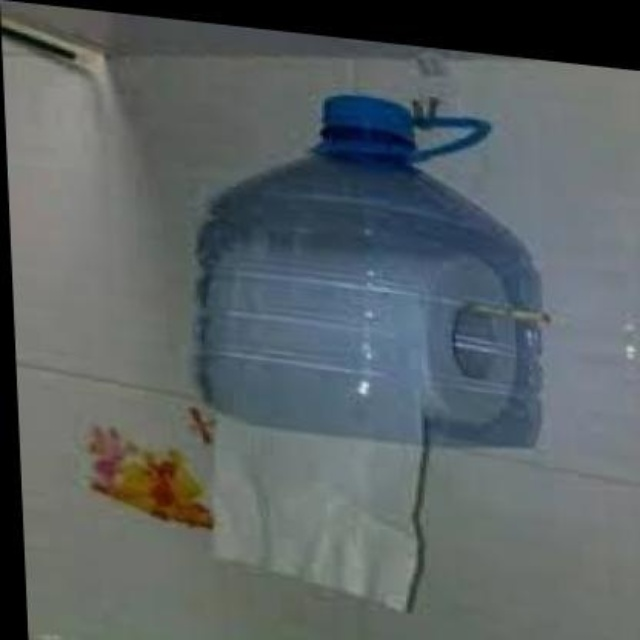trash: (198, 95, 542, 445)
